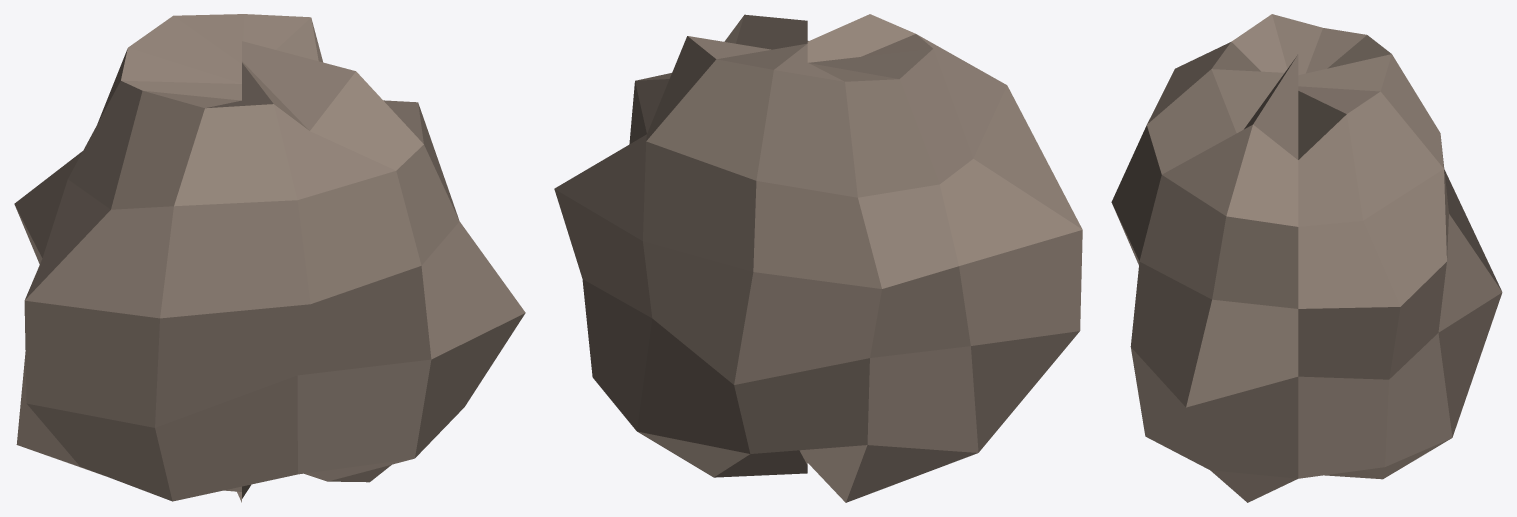
The model's file is Rock05.glb.
The picture shows the model from 3 angles, left to right: view 1: azimuth 30°, elevation 25°; view 2: azimuth 150°, elevation 25°; view 3: azimuth 270°, elevation 25°; orthographic projection. The views are drawn at different scales.
Parts seen in each view (by area): view 1: Rock05Hull; view 2: Rock05Hull; view 3: Rock05Hull.
Part boxes in pixels (x1=…): Rock05Hull: x1=14, y1=14, x2=525, y2=502; Rock05Hull: x1=554, y1=14, x2=1082, y2=502; Rock05Hull: x1=1111, y1=14, x2=1502, y2=502.
Size of the model in its own units: 1.95 by 1.83 by 1.55.
